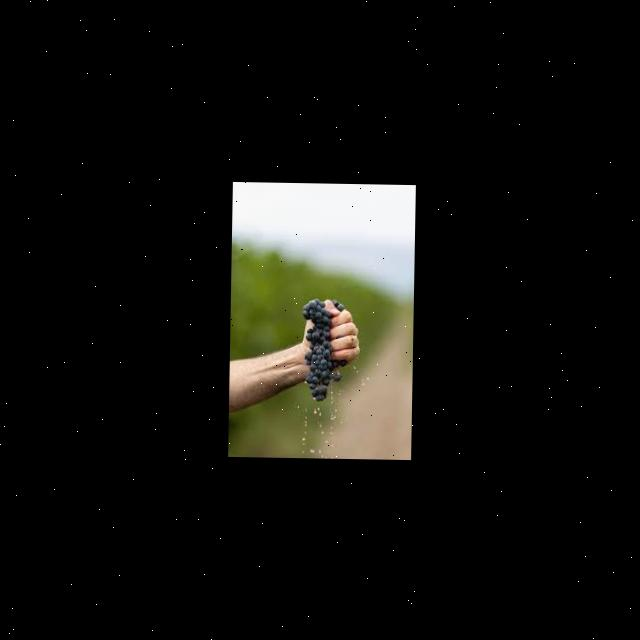grape: (299, 297, 347, 401)
